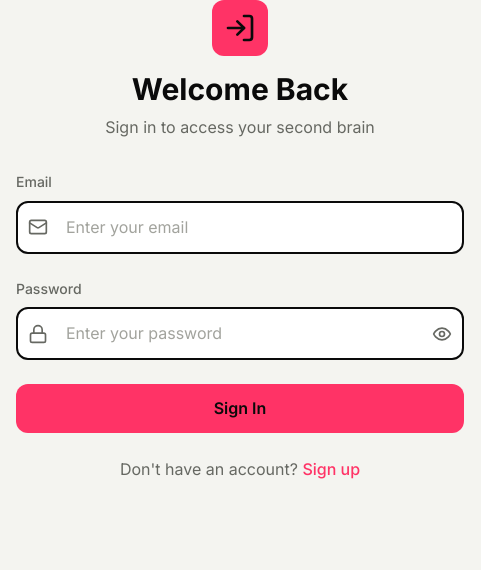
Test case: LoginForm › Error handling › should display error message when login fails
The image size is (481, 570).
Type "test@example.com" into the field labelled "Email".
click(240, 227); type("test@example.com")  # box top-left (16, 201), bottom-right (464, 254)
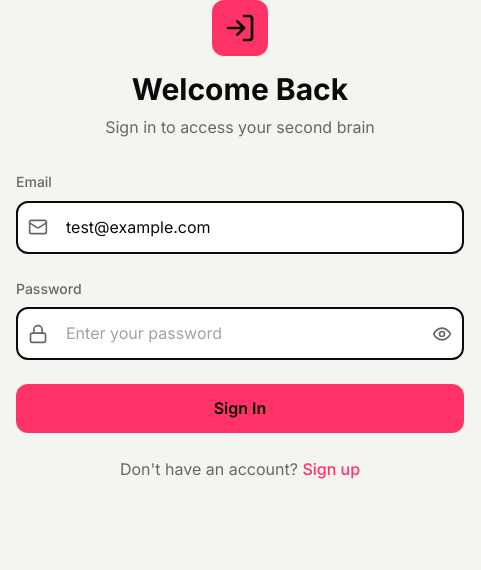
Type "wrongpassword" into the password field labelled "Password".
click(240, 334); type("wrongpassword")  # box top-left (16, 308), bottom-right (464, 360)
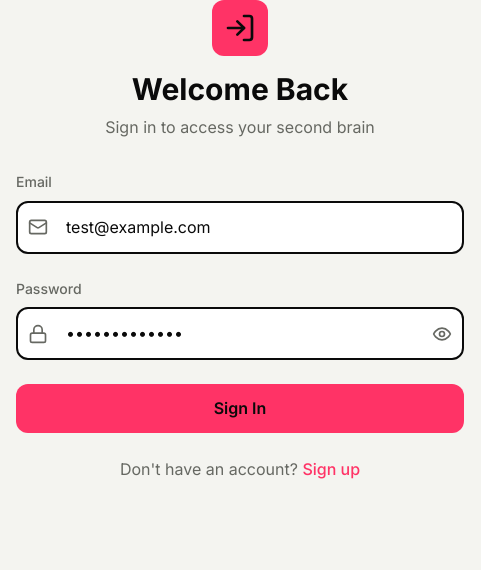
Click the button "Sign In".
click(240, 409)  # box top-left (16, 384), bottom-right (464, 433)
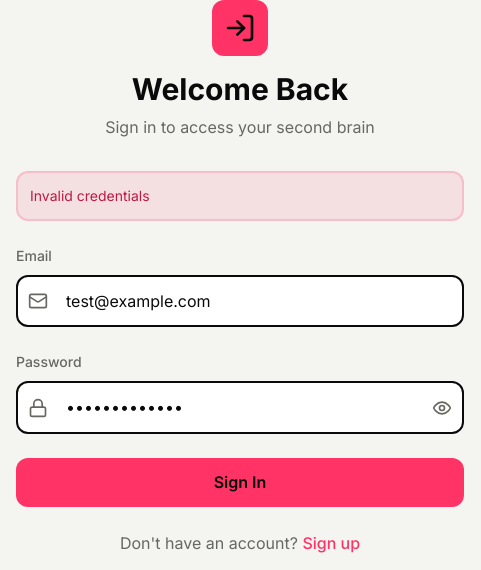
Expected: the text "Invalid credentials" is shown, top-left (16, 171), bottom-right (464, 221)
